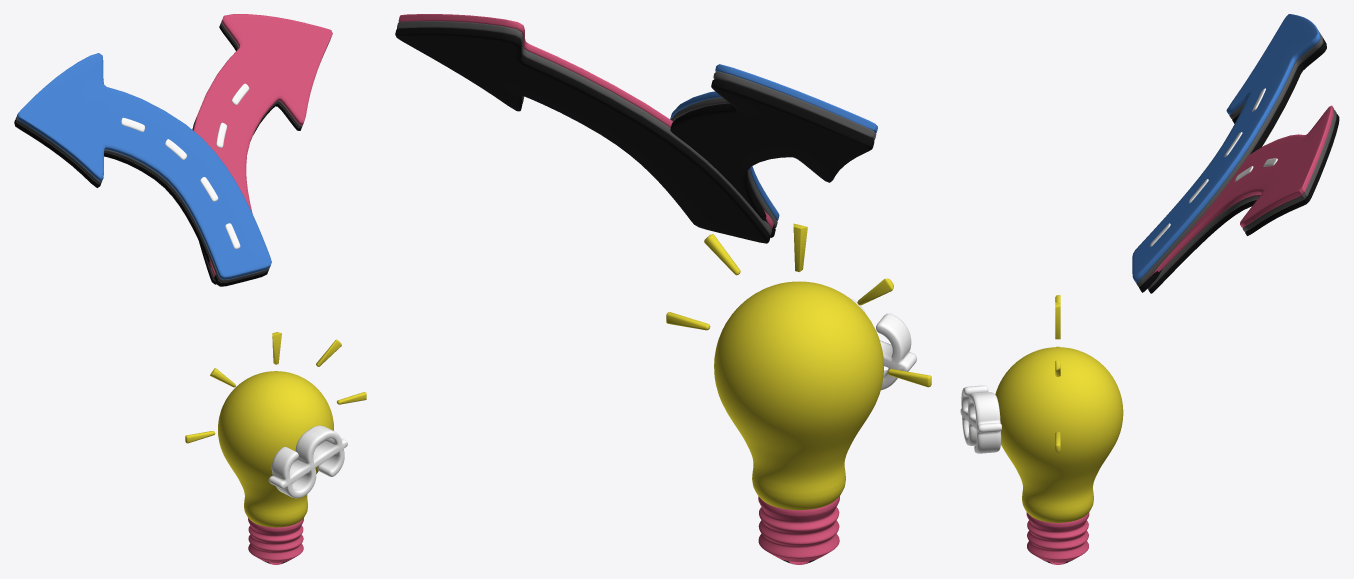
Rendered from pivot-3d-animated-icon-1500011668892.glb.
3 views of the same model, side by side, from view 1: azimuth 30°, elevation 25°; view 2: azimuth 150°, elevation 25°; view 3: azimuth 270°, elevation 25° (orthographic). The views are drawn at different scales.
Visible parts, largest first — view 1: Cube.120, Cube.115, Sphere.040, Dollar, Sphere.039, Cube.114; view 2: Sphere.040, Cube.115, Cube.120, Sphere.039, Cube.114, Dollar; view 3: Sphere.040, Cube.120, Cube.115, Sphere.039, Dollar, Cube.114.
Part boxes in pixels (x1=…): Cube.120: x1=14, y1=53, x2=271, y2=286; Cube.115: x1=192, y1=14, x2=332, y2=284; Sphere.040: x1=218, y1=371, x2=333, y2=527; Dollar: x1=268, y1=425, x2=347, y2=498; Sphere.039: x1=248, y1=518, x2=303, y2=564; Cube.114: x1=185, y1=332, x2=366, y2=443; Sphere.040: x1=714, y1=281, x2=883, y2=510; Cube.115: x1=395, y1=14, x2=773, y2=243; Cube.120: x1=670, y1=64, x2=877, y2=237; Sphere.039: x1=758, y1=496, x2=839, y2=564; Cube.114: x1=666, y1=223, x2=931, y2=387; Dollar: x1=848, y1=297, x2=916, y2=390; Sphere.040: x1=995, y1=347, x2=1123, y2=522; Cube.120: x1=1132, y1=14, x2=1326, y2=292; Cube.115: x1=1146, y1=105, x2=1339, y2=293; Sphere.039: x1=1026, y1=512, x2=1089, y2=564; Dollar: x1=960, y1=385, x2=1001, y2=453; Cube.114: x1=1055, y1=295, x2=1060, y2=452.
Size of the model in its own units: 7.05 by 9.28 by 6.43.
